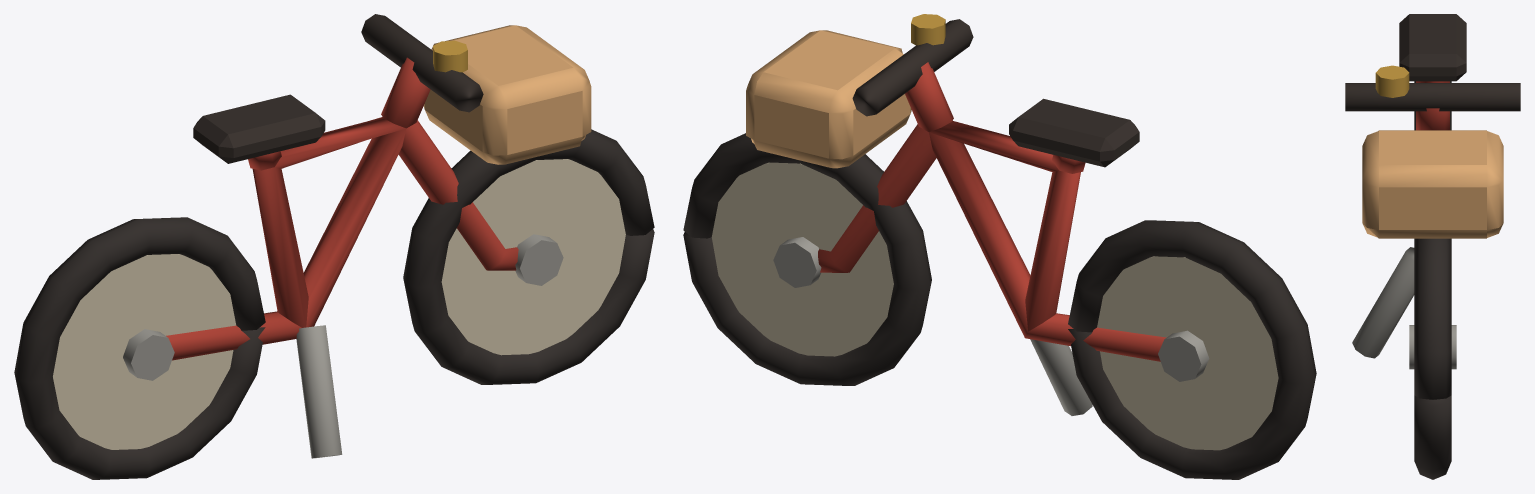
The model's file is bicycle.glb.
3 views of the same model, side by side, from view 1: azimuth 30°, elevation 25°; view 2: azimuth 150°, elevation 25°; view 3: azimuth 270°, elevation 25° (orthographic). The views are drawn at different scales.
Parts seen in each view (by area): view 1: body; view 2: body; view 3: body.
Part boxes in pixels (x1,y1,x2,y2): body: (14,14,654,479); body: (683,14,1316,479); body: (1345,14,1520,479).
Size of the model in its own units: 2.03 by 1.14 by 0.52.
